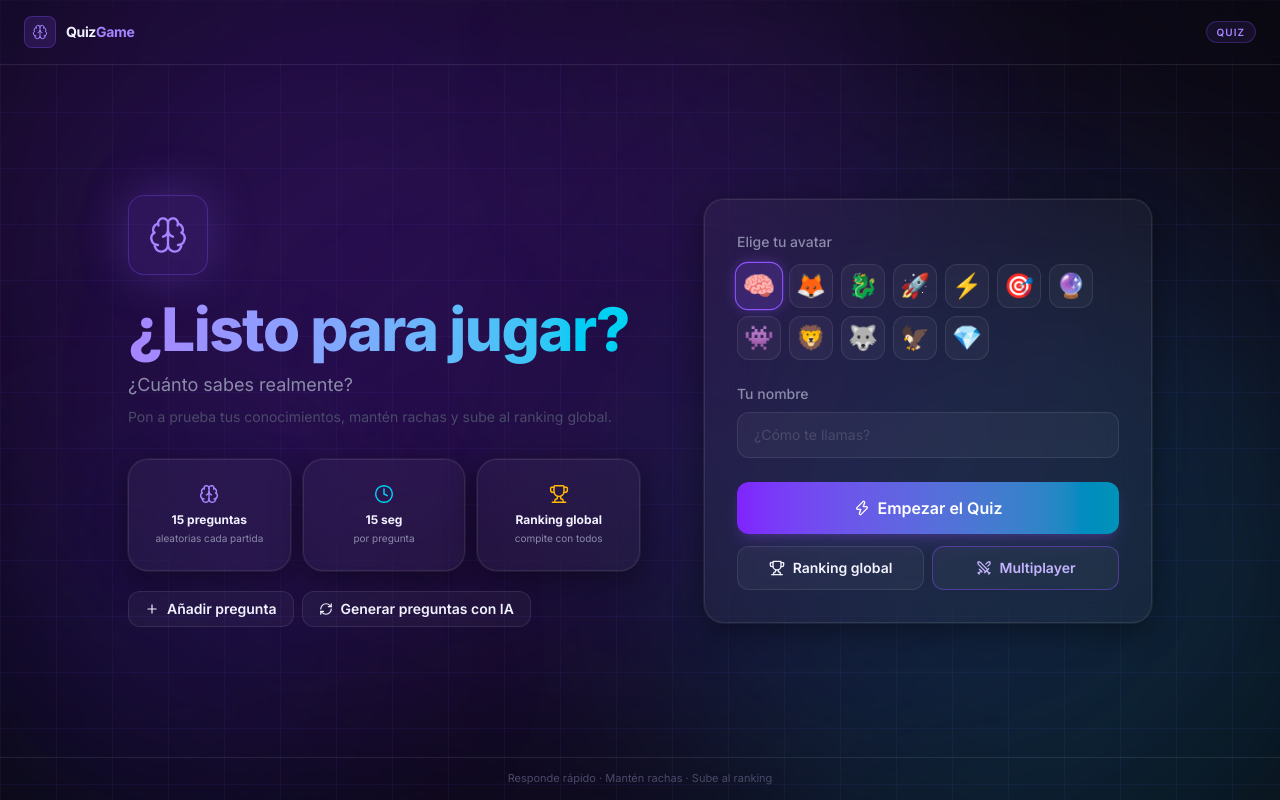
Test: StartScreen — form validation › shows an error when submitting without a name
Click the button "Empezar el Quiz": (928, 508) [737,482,1119,534]
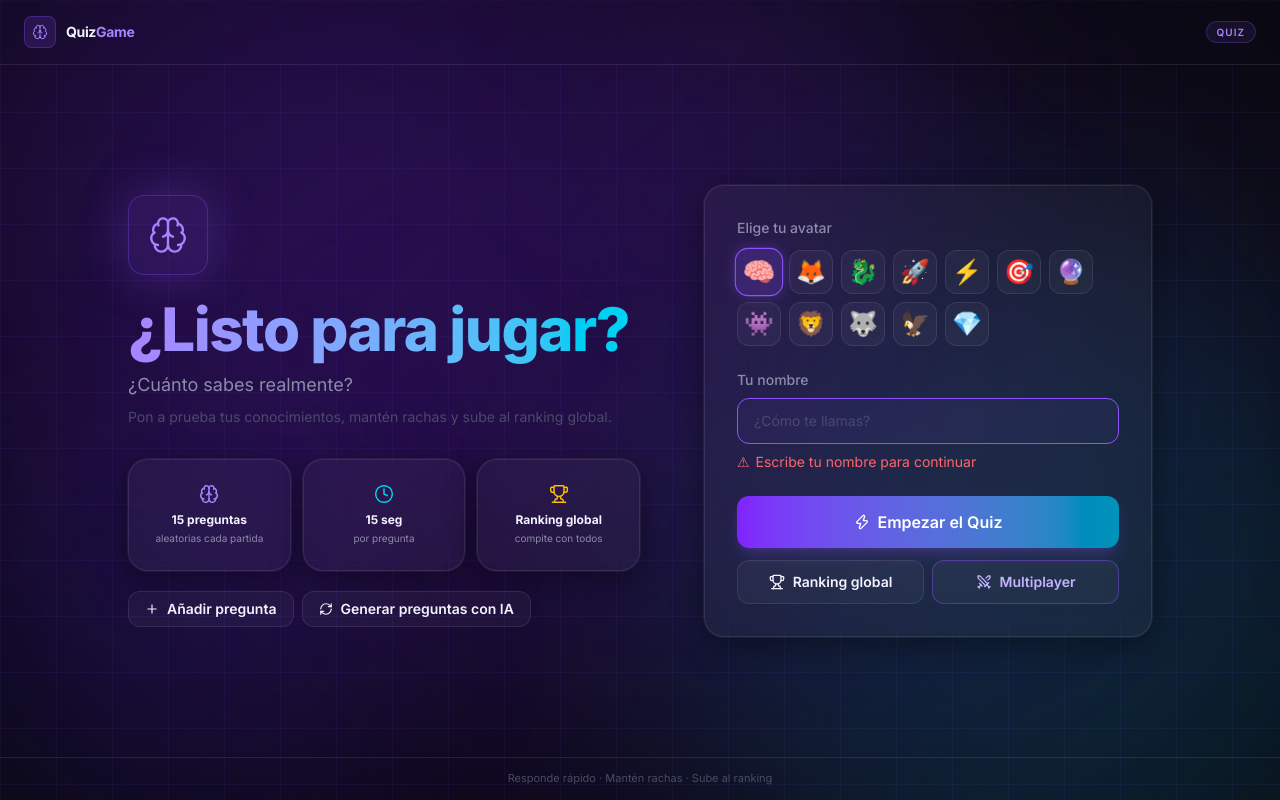
expect the message shows "nombre": met, box [756,453,976,470]
